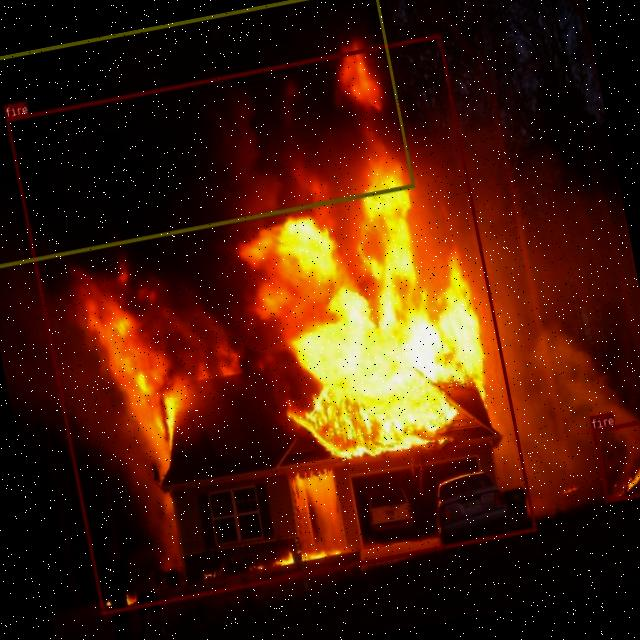fire: (6, 33, 536, 614), (591, 415, 640, 503)
smoke: (0, 0, 414, 271)
